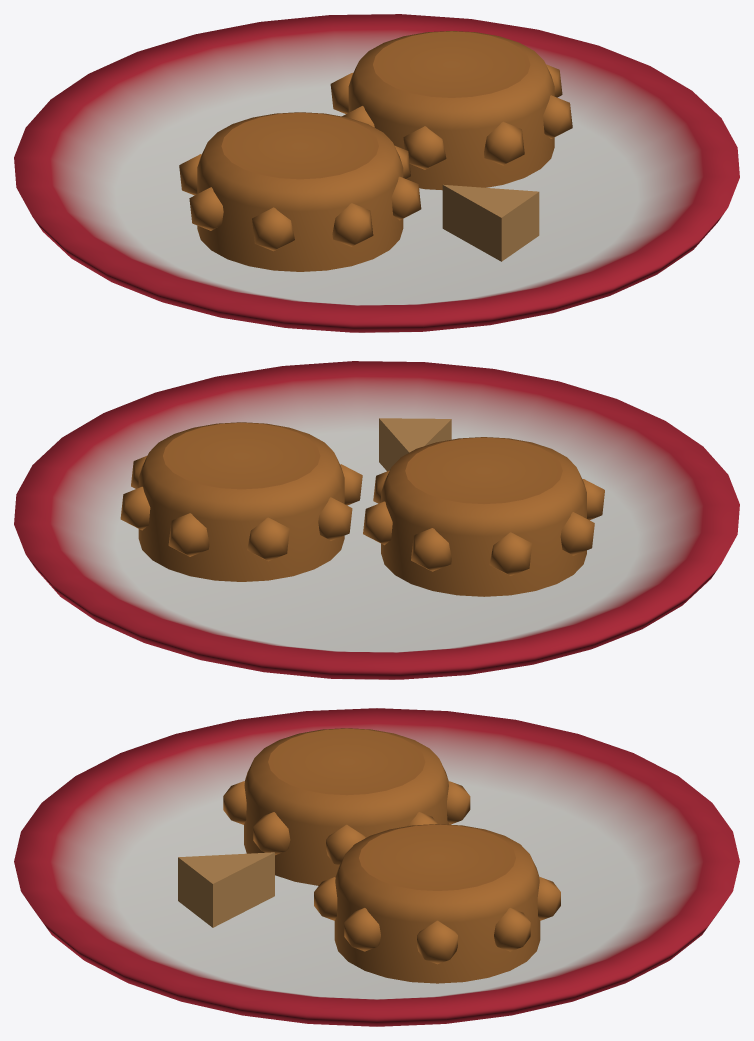
The model's file is item_dish_mooncakes.glb.
3 views of the same model, one above another, from view 1: azimuth 30°, elevation 25°; view 2: azimuth 150°, elevation 25°; view 3: azimuth 270°, elevation 25° (orthographic).
Visible parts, largest first — view 1: item_dish_mooncakes_main; view 2: item_dish_mooncakes_main; view 3: item_dish_mooncakes_main.
Boxes of the visible parts, x1,y1,x2,y2 form: item_dish_mooncakes_main: (14, 14, 739, 332); item_dish_mooncakes_main: (14, 361, 739, 679); item_dish_mooncakes_main: (14, 708, 739, 1026).
Size of the model in its own units: 0.24 by 0.04 by 0.24.
